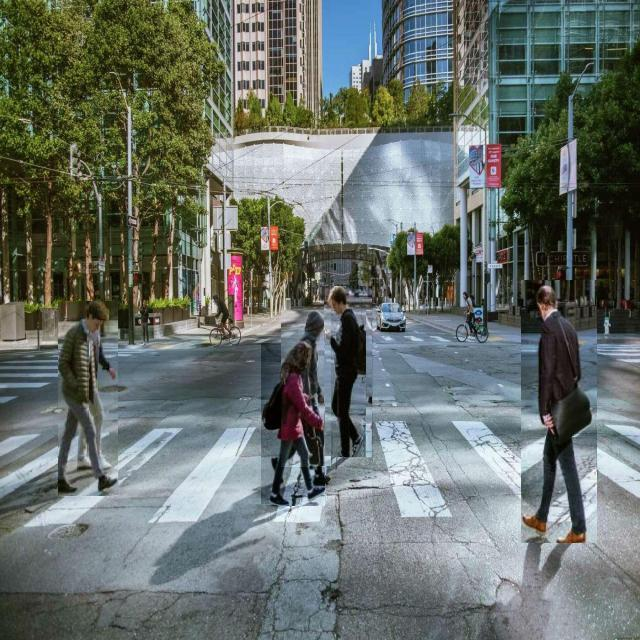without scooter: (521, 280, 597, 543), (58, 302, 118, 498), (261, 343, 325, 506), (325, 286, 374, 457), (281, 311, 331, 468)
